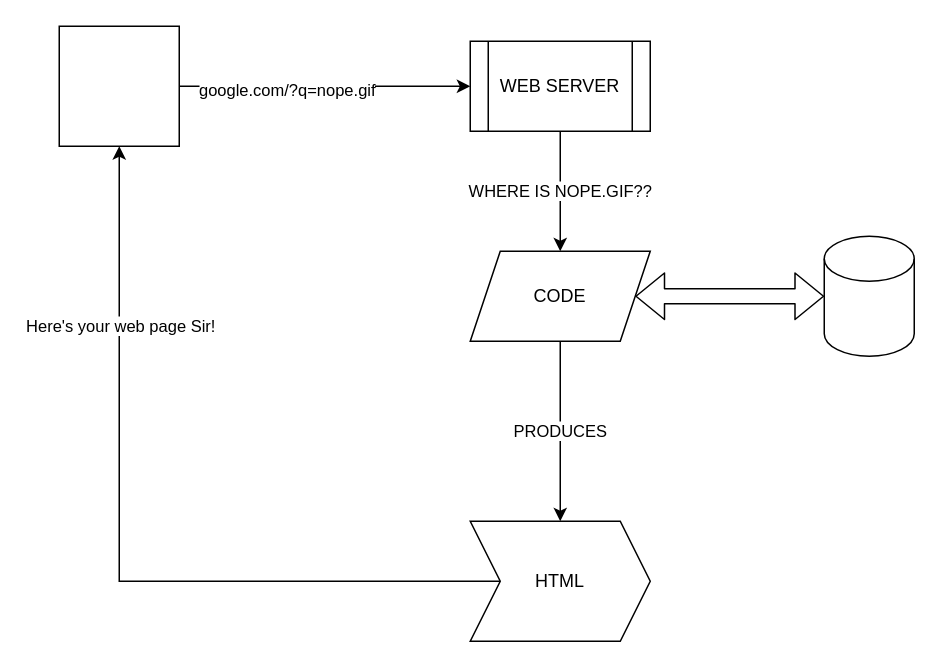
Image size: 941x668. Some labels were removed from this diagram. The centre of each missing label's shape, as x and y in pixels:
Browser: the point at 118,85
DataBase: the point at 868,295
